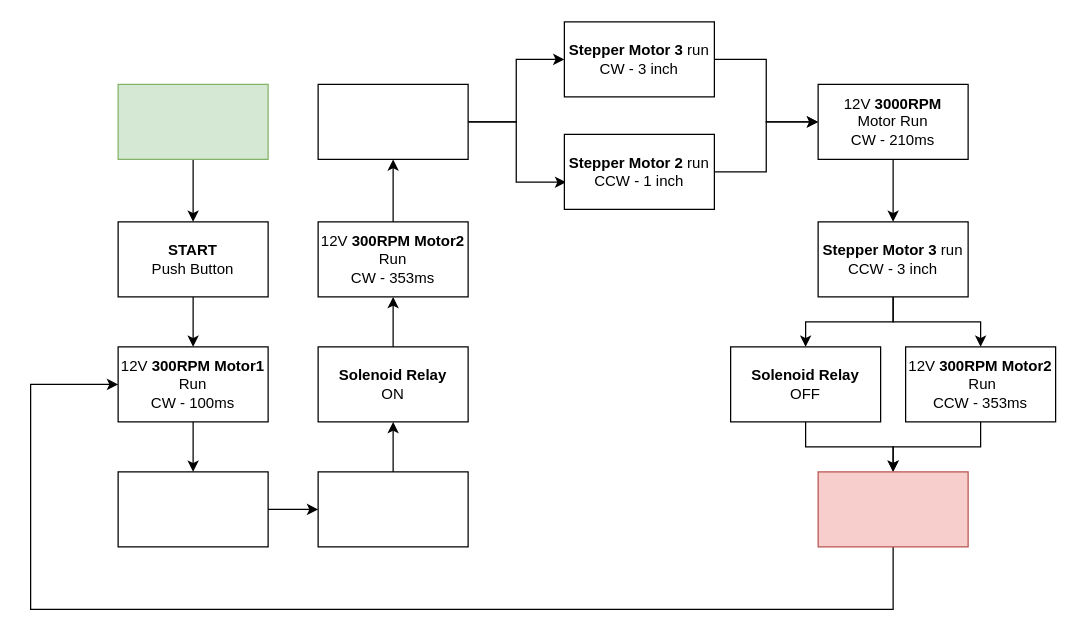
Image size: 1078x641. Some labels were removed from this diagram. The box of each missing label's shape, as (x1, y1, x2, y2) in pixels:
Loop Repeat: (817, 471, 968, 547)
Power Button Slider ON: (117, 83, 268, 159)
Stepper Motor 1 run CCW - 3 inch: (117, 471, 268, 547)
Stepper Motor 1 run CW - 3 inch: (317, 83, 468, 159)
Stepper Motor 2 run CW - 1 inch: (317, 471, 468, 547)
